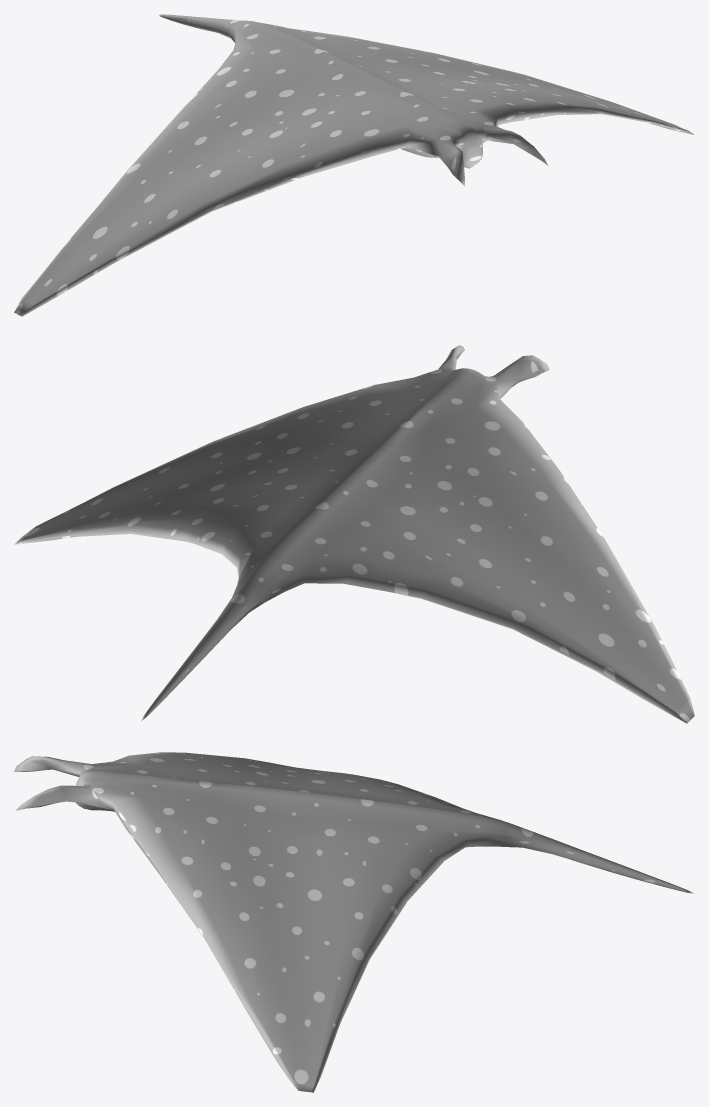
The model's file is something_01.obj.
3 renders of one model, top to bottom at view 1: azimuth 30°, elevation 25°; view 2: azimuth 150°, elevation 25°; view 3: azimuth 270°, elevation 25°, orthographic. The views are drawn at different scales.
Parts seen in each view (by area): view 1: something_01_Box01; view 2: something_01_Box01; view 3: something_01_Box01.
Boxes of the visible parts, <box> form: something_01_Box01: <box>14,14,694,316</box>; something_01_Box01: <box>14,345,694,723</box>; something_01_Box01: <box>14,752,693,1092</box>.
Size of the model in its own units: 7.57 by 2.04 by 6.97.
1 material, 1 textured.
